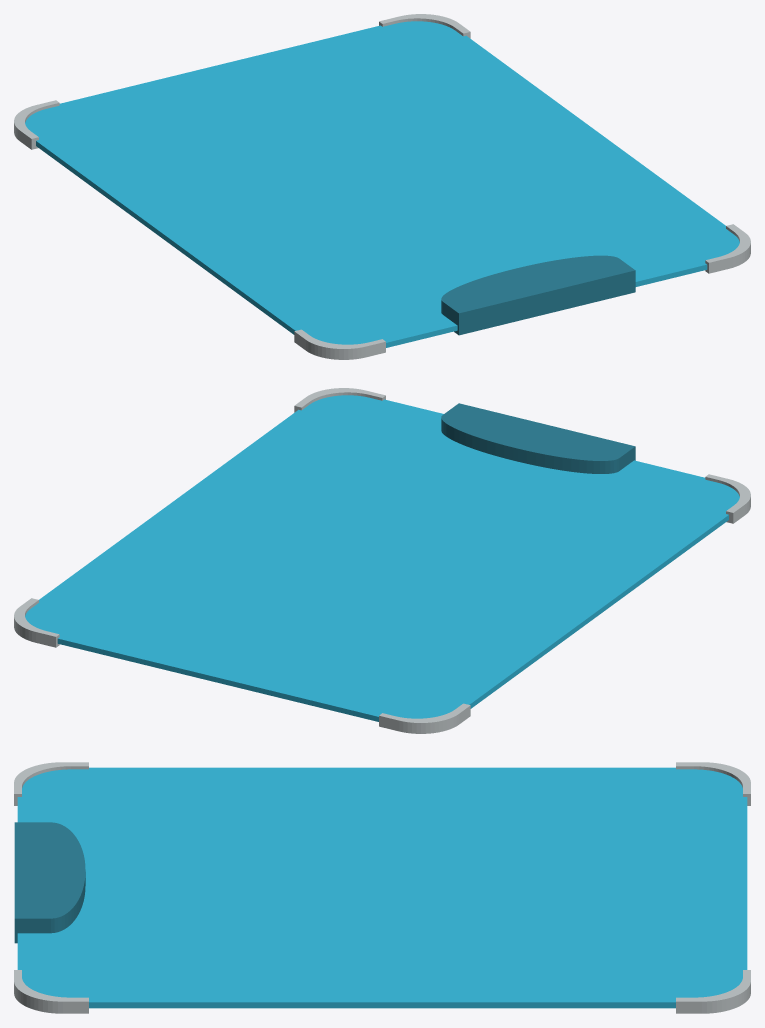
Rendered from binder.obj.
The picture shows the model from 3 angles, top to bottom: view 1: azimuth 30°, elevation 25°; view 2: azimuth 150°, elevation 25°; view 3: azimuth 270°, elevation 25°; orthographic projection. The views are drawn at different scales.
Parts seen in each view (by area): view 1: Cube, 立方体, 立方体.001; view 2: Cube, 立方体, 立方体.001; view 3: Cube, 立方体, 立方体.001.
Boxes of the visible parts, box(x1,y1,x2,y2) form: Cube: box(25, 21, 739, 347); 立方体: box(441, 255, 635, 335); 立方体.001: box(14, 14, 750, 359); Cube: box(25, 395, 739, 721); 立方体: box(441, 403, 635, 473); 立方体.001: box(14, 388, 750, 733); Cube: box(17, 767, 747, 1008); 立方体: box(14, 822, 85, 943); 立方体.001: box(14, 762, 750, 1013).
Size of the model in its own units: 4.97 by 0.2385 by 6.47.
